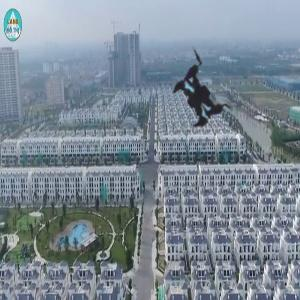drone: (131, 22, 277, 168)
